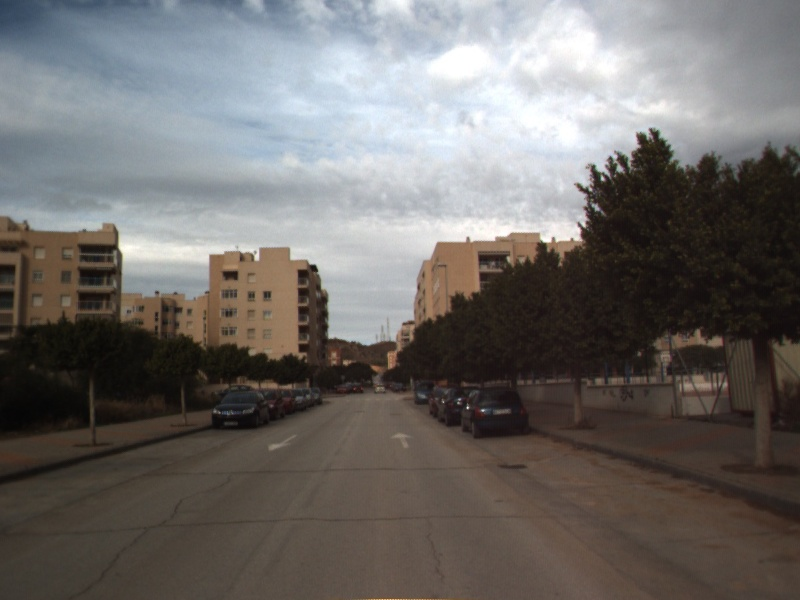STRAIGHT: (389, 430, 417, 450)
